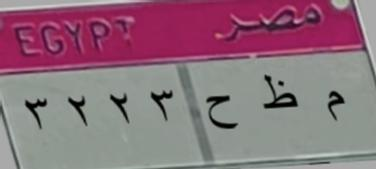2: (104, 86, 135, 135), (64, 90, 90, 130)
3: (146, 82, 178, 127), (22, 96, 51, 134)
7aa: (201, 88, 240, 134)
Thaa: (257, 72, 303, 115)
meem: (320, 90, 348, 127)
